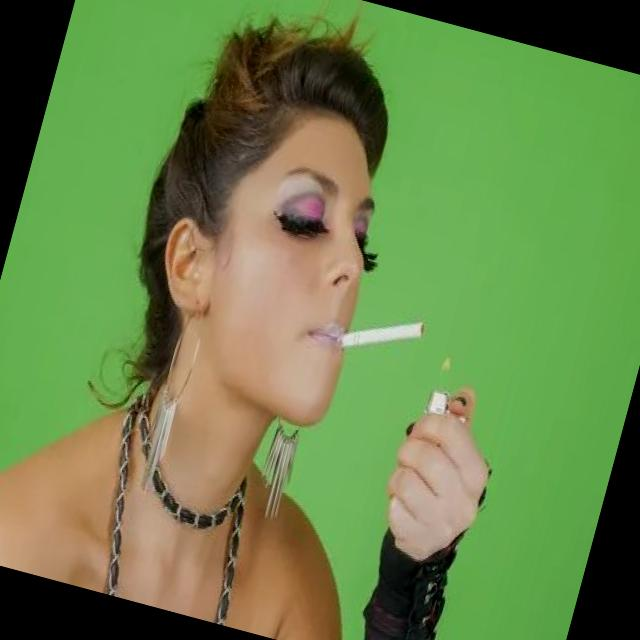cigarette: (331, 294, 428, 374)
